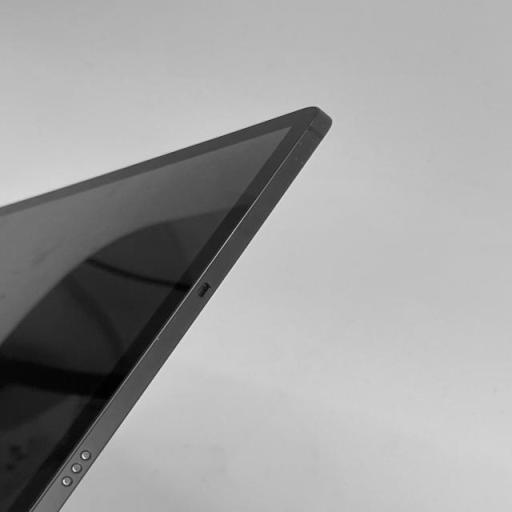phone: (0, 99, 343, 512)
